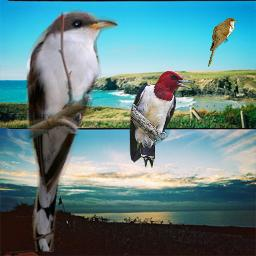Cuckoo: (24, 9, 118, 252), (208, 17, 238, 67)
Woodpecker: (127, 71, 197, 168)
